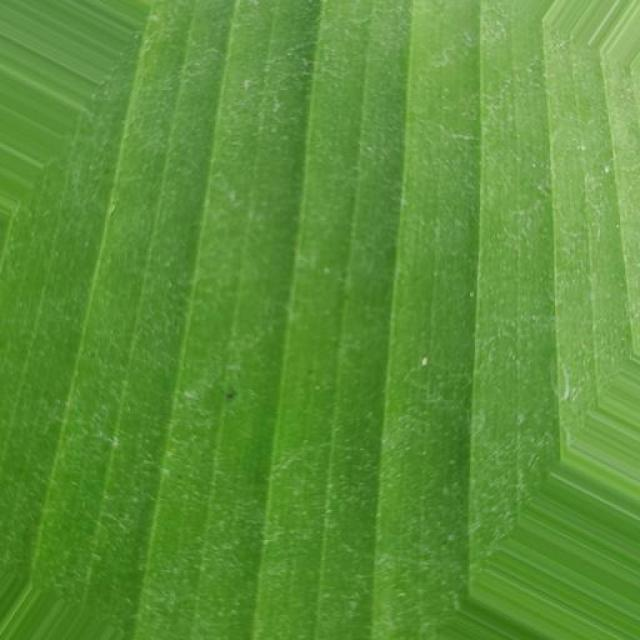Black_leaf_spot: (30, 5, 640, 594)
